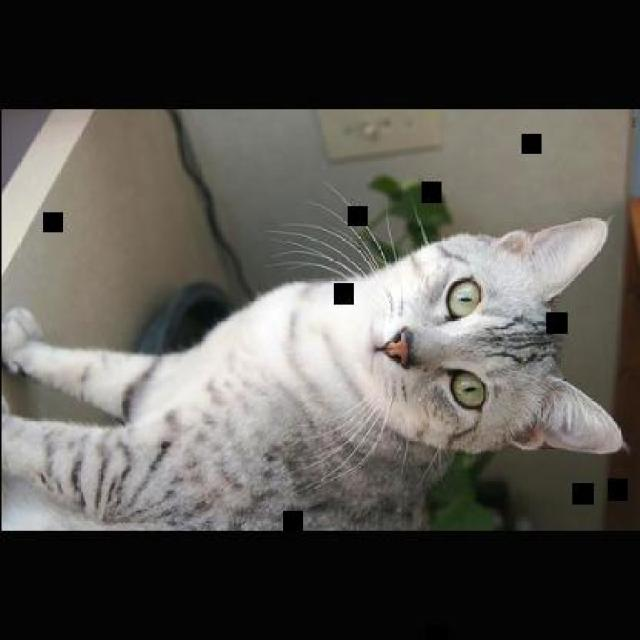unauthorized: (0, 194, 628, 531)
